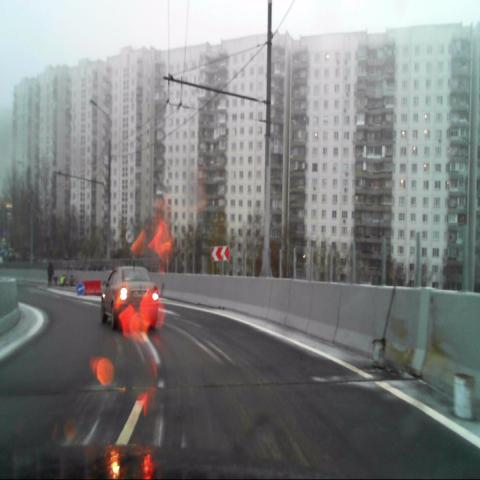3_25: (125, 228, 133, 242)
4_2_2: (76, 281, 84, 295)
